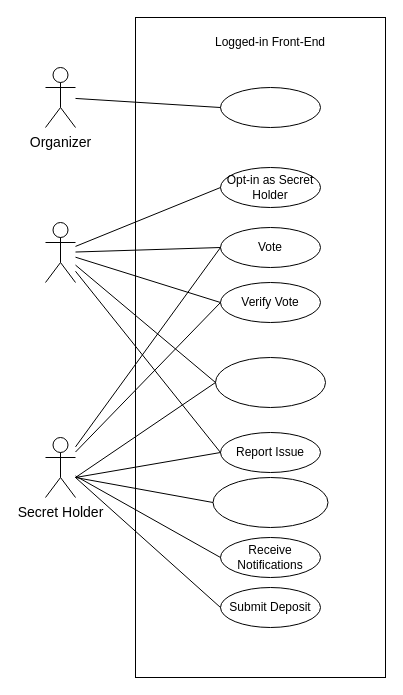
This 403x695 diagram has some shape labels left out. The shapes that lost their labels are listed below. From the top down, each one's box as (x1, y1, x2, y2) in pixels, then its label:
(220, 86, 320, 128): Create Election
(44, 222, 76, 282): Voter
(214, 356, 326, 408): Select preferred Blockchain wallet
(212, 476, 328, 528): Opt-out of Secret Holding
